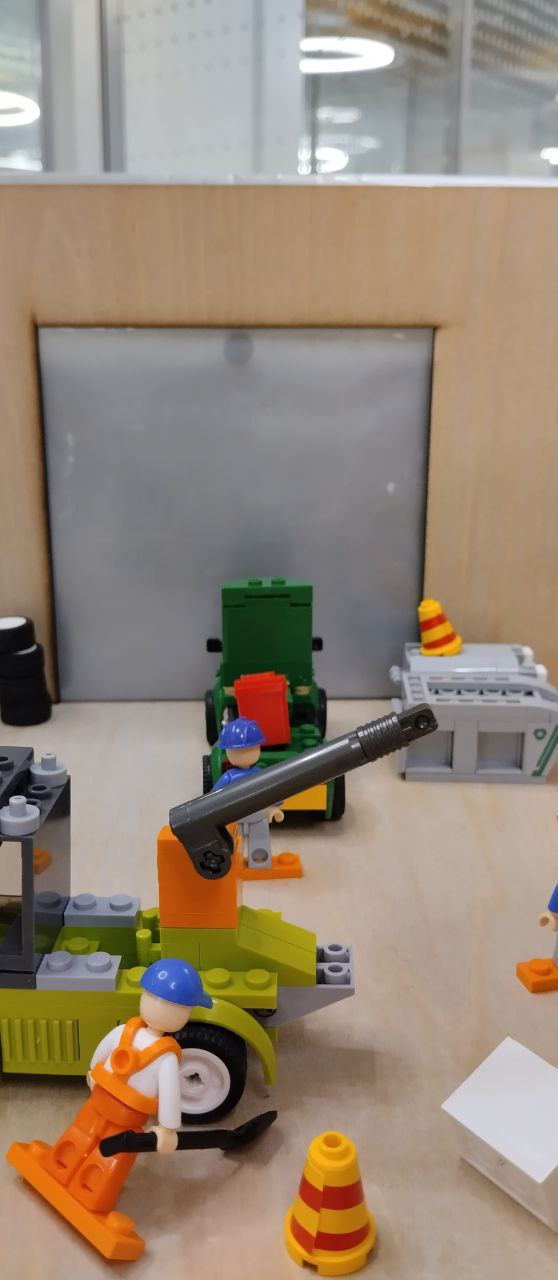Cone: (285, 1128, 380, 1276), (414, 593, 463, 660)
Crane: (0, 706, 441, 1118)
Object Red: (230, 669, 293, 751)
Object white: (439, 1036, 558, 1232)
Truck: (198, 582, 345, 826)
